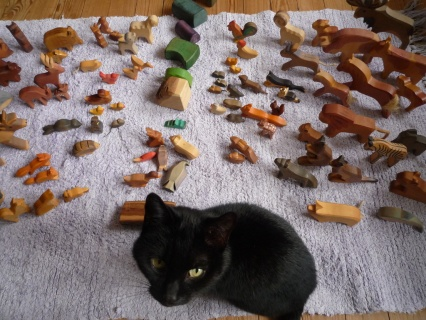Cat: (116, 190, 317, 319)
